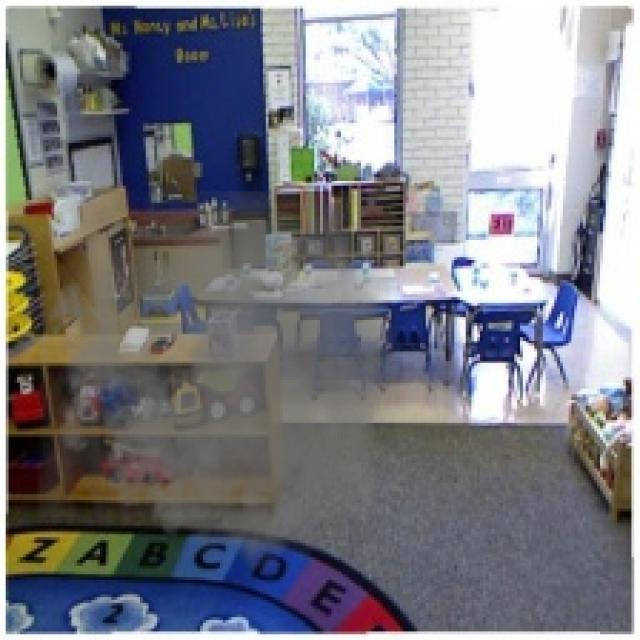Smoke: (37, 191, 400, 583)
